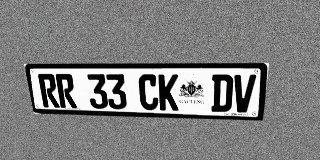3: (87, 74, 108, 109), (106, 74, 127, 109)
C: (138, 74, 159, 110)
D: (211, 74, 234, 112)
K: (158, 74, 178, 111)
R: (37, 74, 60, 108), (55, 74, 77, 108)
V: (232, 74, 256, 113)
